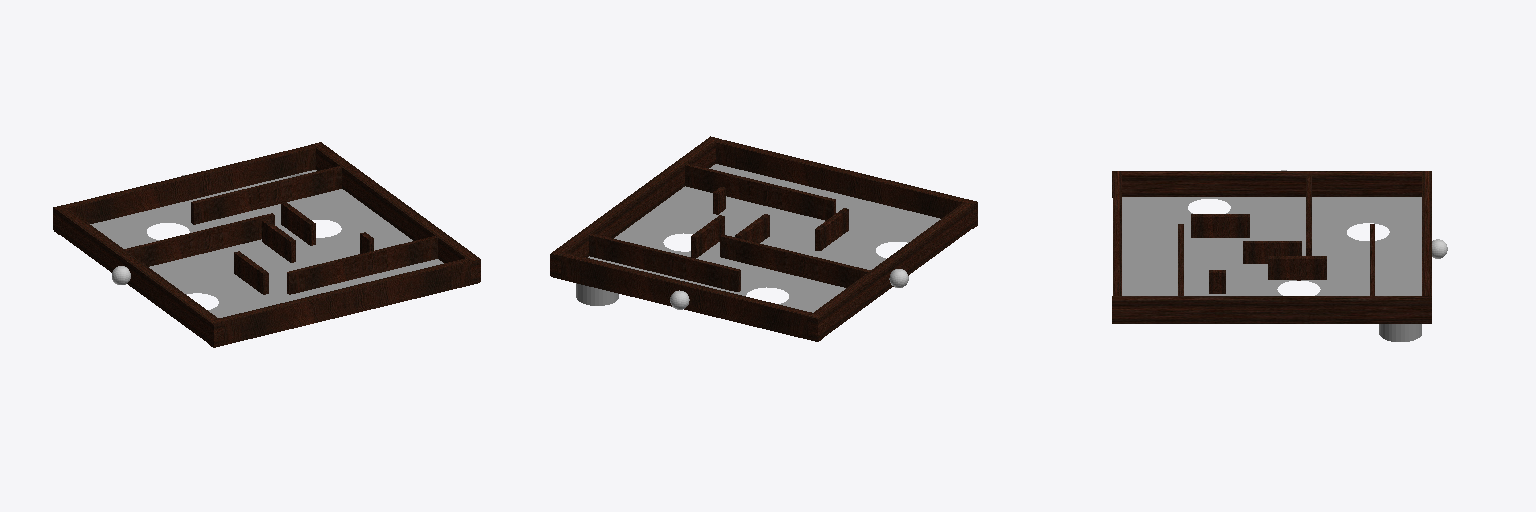
The picture shows the model from 3 angles: view 1: azimuth 30°, elevation 25°; view 2: azimuth 150°, elevation 25°; view 3: azimuth 270°, elevation 25°; orthographic projection.
Visible parts, largest first — view 1: Cube.008, Plane.001, Cube.010, Cube.012, Cube.011, Cube.015, Cube.014, Cube.009; view 2: Cube.008, Plane.001, Cube.012, Cube.010, Cube.011, Cube.014, Cube.015, Cube.009; view 3: Plane.001, Cube.008, Cube.015, Cube.014, Cube.009.
Boxes of the visible parts, x1=… form: Cube.008: x1=53, y1=142, x2=480, y2=347; Plane.001: x1=90, y1=170, x2=443, y2=317; Cube.010: x1=287, y1=236, x2=437, y2=294; Cube.012: x1=191, y1=166, x2=341, y2=224; Cube.011: x1=124, y1=213, x2=274, y2=266; Cube.015: x1=281, y1=202, x2=315, y2=245; Cube.014: x1=234, y1=251, x2=268, y2=294; Cube.009: x1=262, y1=219, x2=295, y2=262; Cube.008: x1=550, y1=136, x2=977, y2=341; Plane.001: x1=576, y1=164, x2=940, y2=312; Cube.012: x1=589, y1=233, x2=740, y2=291; Cube.010: x1=685, y1=163, x2=835, y2=220; Cube.011: x1=720, y1=234, x2=870, y2=287; Cube.014: x1=815, y1=208, x2=848, y2=250; Cube.015: x1=691, y1=215, x2=724, y2=258; Cube.009: x1=735, y1=214, x2=769, y2=242; Plane.001: x1=1122, y1=197, x2=1421, y2=341; Cube.008: x1=1112, y1=171, x2=1431, y2=323; Cube.015: x1=1268, y1=256, x2=1326, y2=280; Cube.014: x1=1191, y1=214, x2=1249, y2=237; Cube.009: x1=1243, y1=241, x2=1301, y2=263.
Size of the model in its own units: 15.15 by 2.43 by 15.58.
12 materials, 1 textured.